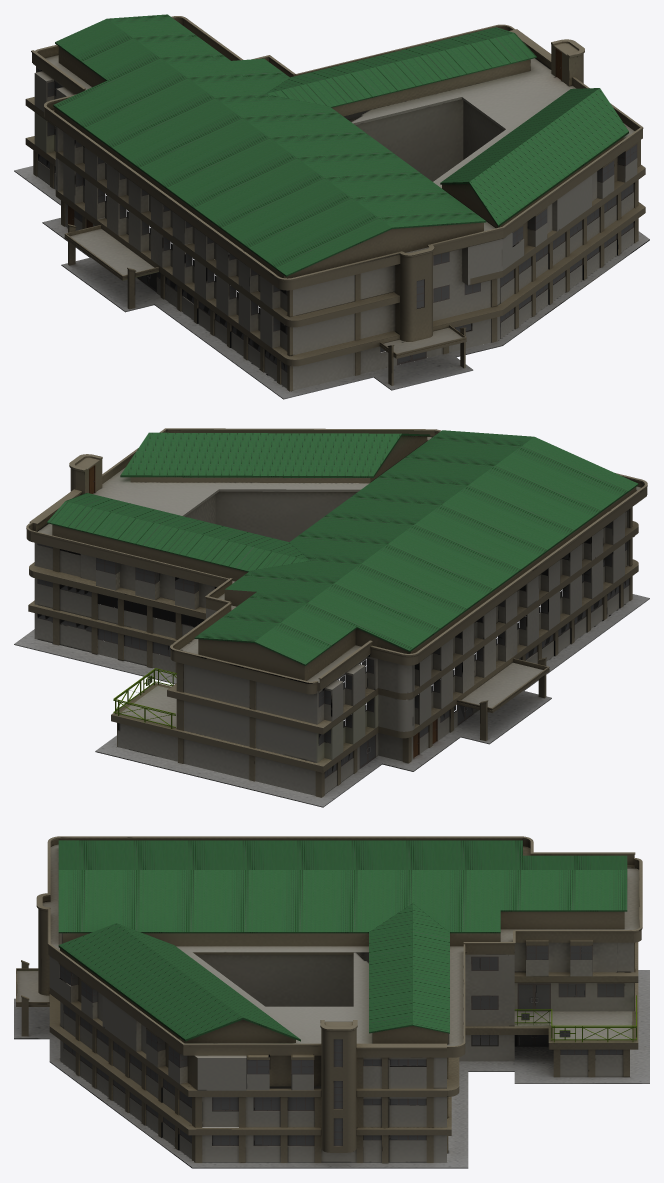
Rendered from library.gltf.
3 views of the same model, one above another, from view 1: azimuth 30°, elevation 25°; view 2: azimuth 150°, elevation 25°; view 3: azimuth 270°, elevation 25° (orthographic).
Parts seen in each view (by area): view 1: _3DGeom-9, _3DGeom-2, _3DGeom-1, _3DGeom-4, _3DGeom-7, _3DGeom-10, _3DGeom-5; view 2: _3DGeom-9, _3DGeom-2, _3DGeom-1, _3DGeom-4, _3DGeom-7, _3DGeom-10, _3DGeom-5, _3DGeom-11; view 3: _3DGeom-9, _3DGeom-2, _3DGeom-1, _3DGeom-4, _3DGeom-7, _3DGeom-10, _3DGeom-11.
Part boxes in pixels (x1,y1,x2,y2): _3DGeom-9: (53, 14, 628, 276); _3DGeom-2: (34, 55, 637, 390); _3DGeom-1: (25, 16, 645, 391); _3DGeom-4: (14, 166, 649, 399); _3DGeom-7: (37, 70, 636, 371); _3DGeom-10: (37, 69, 637, 372); _3DGeom-5: (34, 112, 83, 178); _3DGeom-9: (47, 430, 638, 665); _3DGeom-2: (34, 437, 640, 795); _3DGeom-1: (26, 428, 647, 797); _3DGeom-4: (14, 594, 649, 807); _3DGeom-7: (38, 522, 628, 777); _3DGeom-10: (37, 511, 629, 778); _3DGeom-5: (316, 695, 378, 762); _3DGeom-11: (113, 668, 176, 728); _3DGeom-9: (58, 840, 627, 1041); _3DGeom-2: (17, 844, 639, 1162); _3DGeom-1: (16, 836, 642, 1163); _3DGeom-4: (14, 970, 649, 1168); _3DGeom-7: (60, 946, 623, 1145); _3DGeom-10: (60, 945, 624, 1146); _3DGeom-11: (514, 995, 636, 1042).
Size of the model in its own units: 1192 by 342 by 1400.
Materials: 15 (15 with a texture image).
